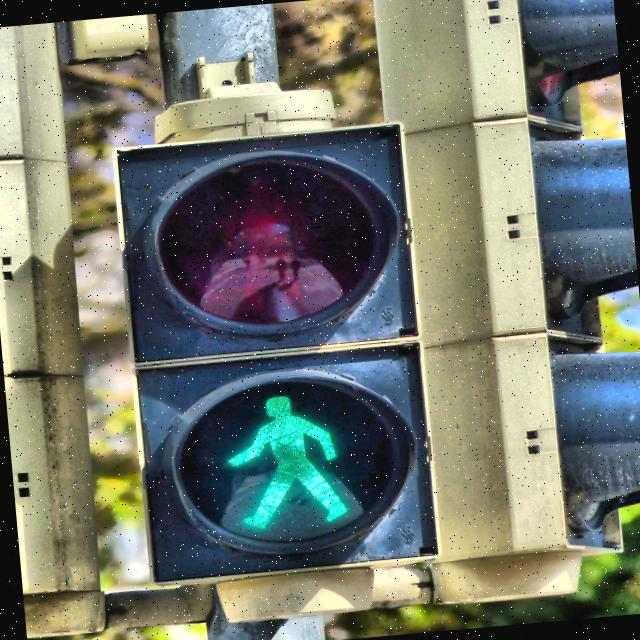green_light: (216, 383, 356, 538)
